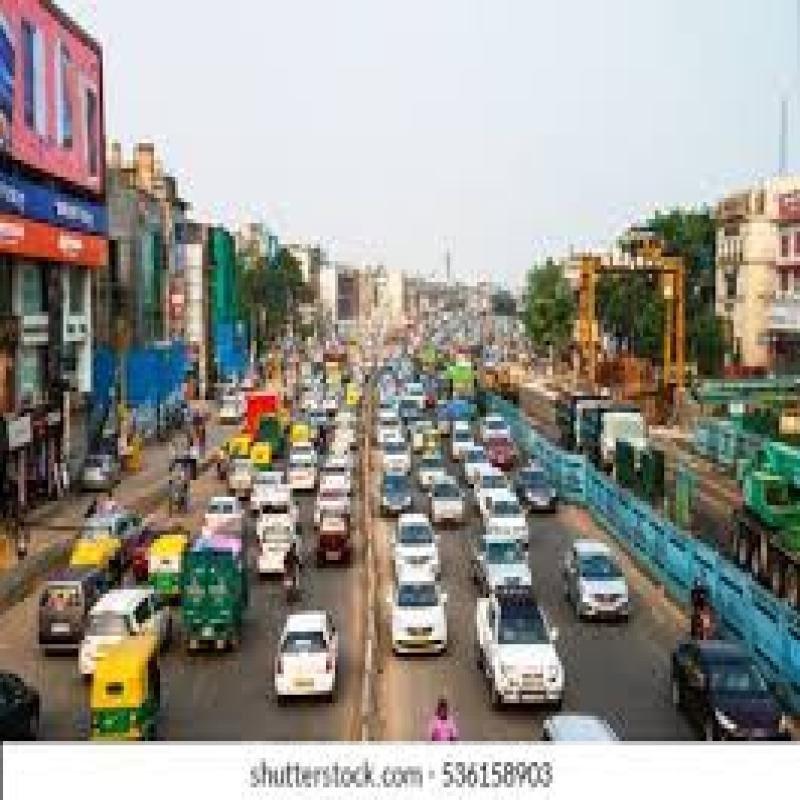car: (473, 588, 551, 706), (276, 600, 340, 695), (559, 539, 631, 623), (380, 578, 441, 661), (476, 490, 534, 567), (399, 505, 442, 580), (318, 511, 362, 584), (201, 496, 247, 554), (257, 511, 294, 571), (251, 462, 292, 514), (424, 479, 463, 528), (474, 467, 512, 515), (287, 441, 322, 484), (384, 441, 407, 491)
